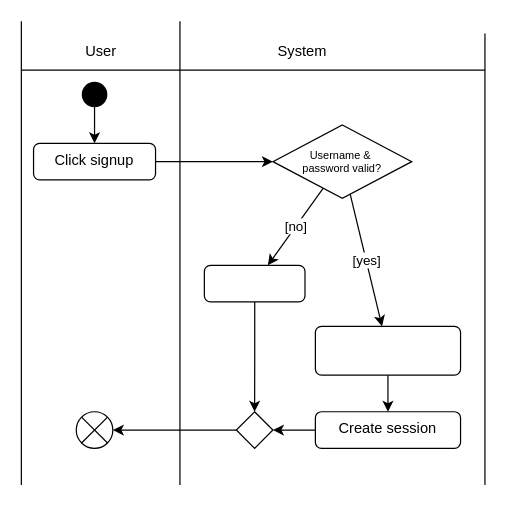
The diagram is 508 pixels wide and 508 high, and some of its shapes have lost their labels. The centre of each missing label's shape, as x and y in pixels:
Create account: point (387, 350)
Send error: point (254, 283)
